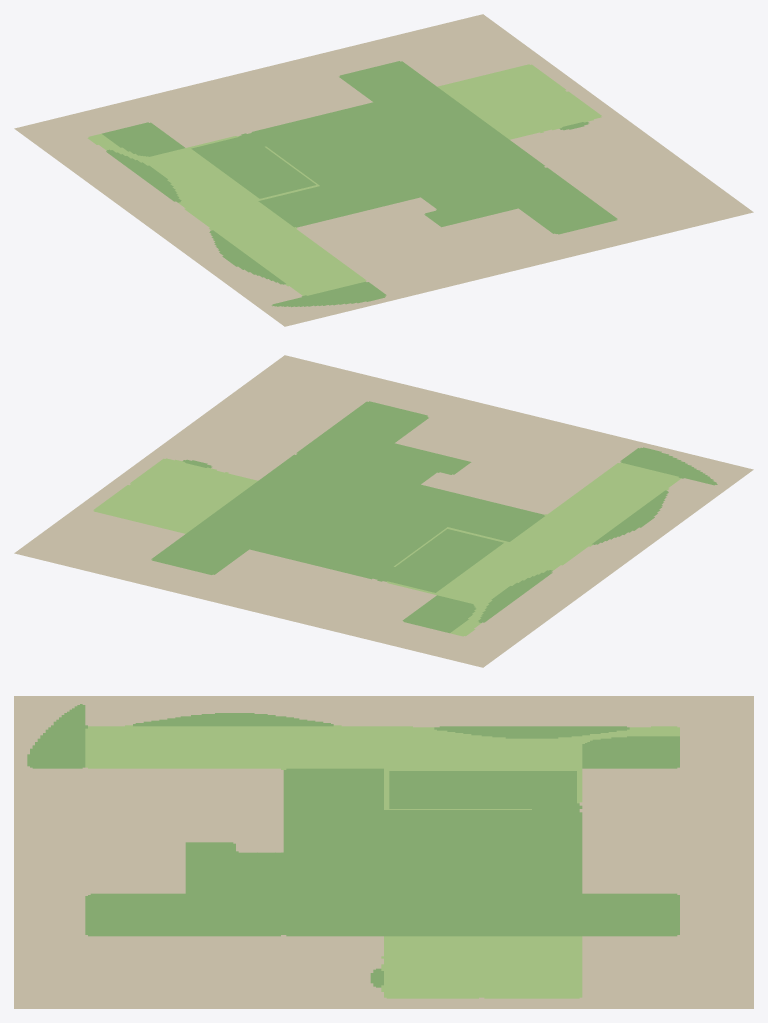
File: MinimapLand_Combined.glb
The picture shows the model from 3 angles, top to bottom: view 1: azimuth 30°, elevation 25°; view 2: azimuth 150°, elevation 25°; view 3: azimuth 270°, elevation 25°; orthographic projection. The views are drawn at different scales.
Visible parts, largest first — view 1: MinimapLand_Combined; view 2: MinimapLand_Combined; view 3: MinimapLand_Combined.
Boxes of the visible parts, x1,y1,x2,y2 form: MinimapLand_Combined: [14, 14, 753, 326]; MinimapLand_Combined: [14, 355, 753, 667]; MinimapLand_Combined: [14, 696, 753, 1008].
Bounding box in the file's own units: 560 × 0 × 560.
